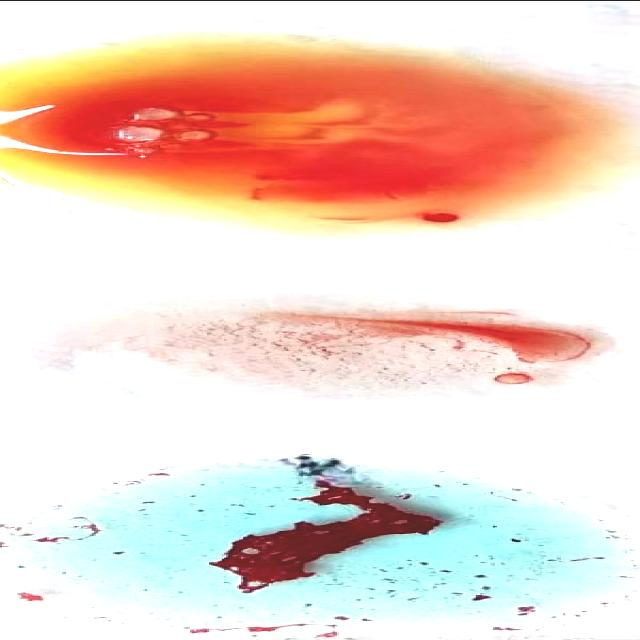A: (1, 463, 624, 633)
D: (64, 306, 612, 408)
